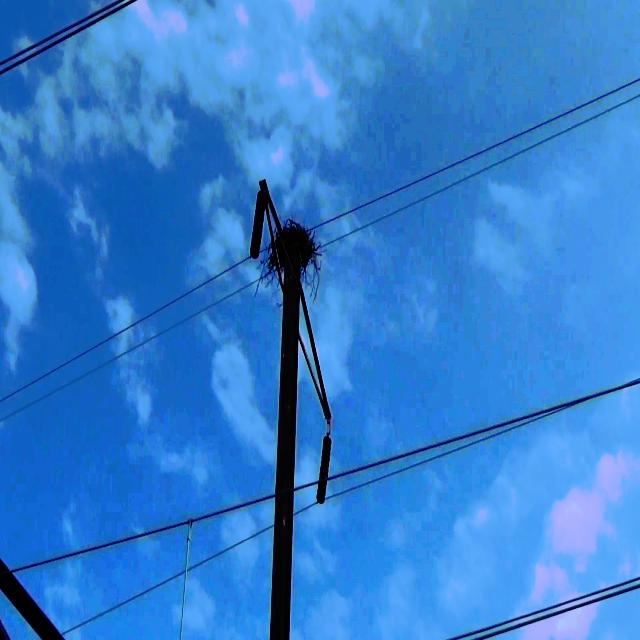obstruction: (289, 231, 324, 297), (260, 241, 278, 284), (280, 218, 308, 235), (277, 247, 285, 285), (273, 226, 280, 241)
poles: (249, 176, 332, 503), (270, 494, 294, 639)
wires: (0, 377, 640, 579), (311, 77, 640, 229), (327, 94, 640, 245), (329, 378, 640, 499), (329, 379, 640, 499), (0, 255, 250, 404), (0, 279, 260, 422), (450, 577, 640, 639), (0, 0, 137, 75), (61, 572, 186, 635), (69, 572, 180, 631), (188, 524, 274, 572), (190, 526, 270, 570), (287, 227, 312, 242), (295, 503, 316, 515), (260, 245, 274, 253), (275, 238, 287, 246), (316, 244, 329, 251)
